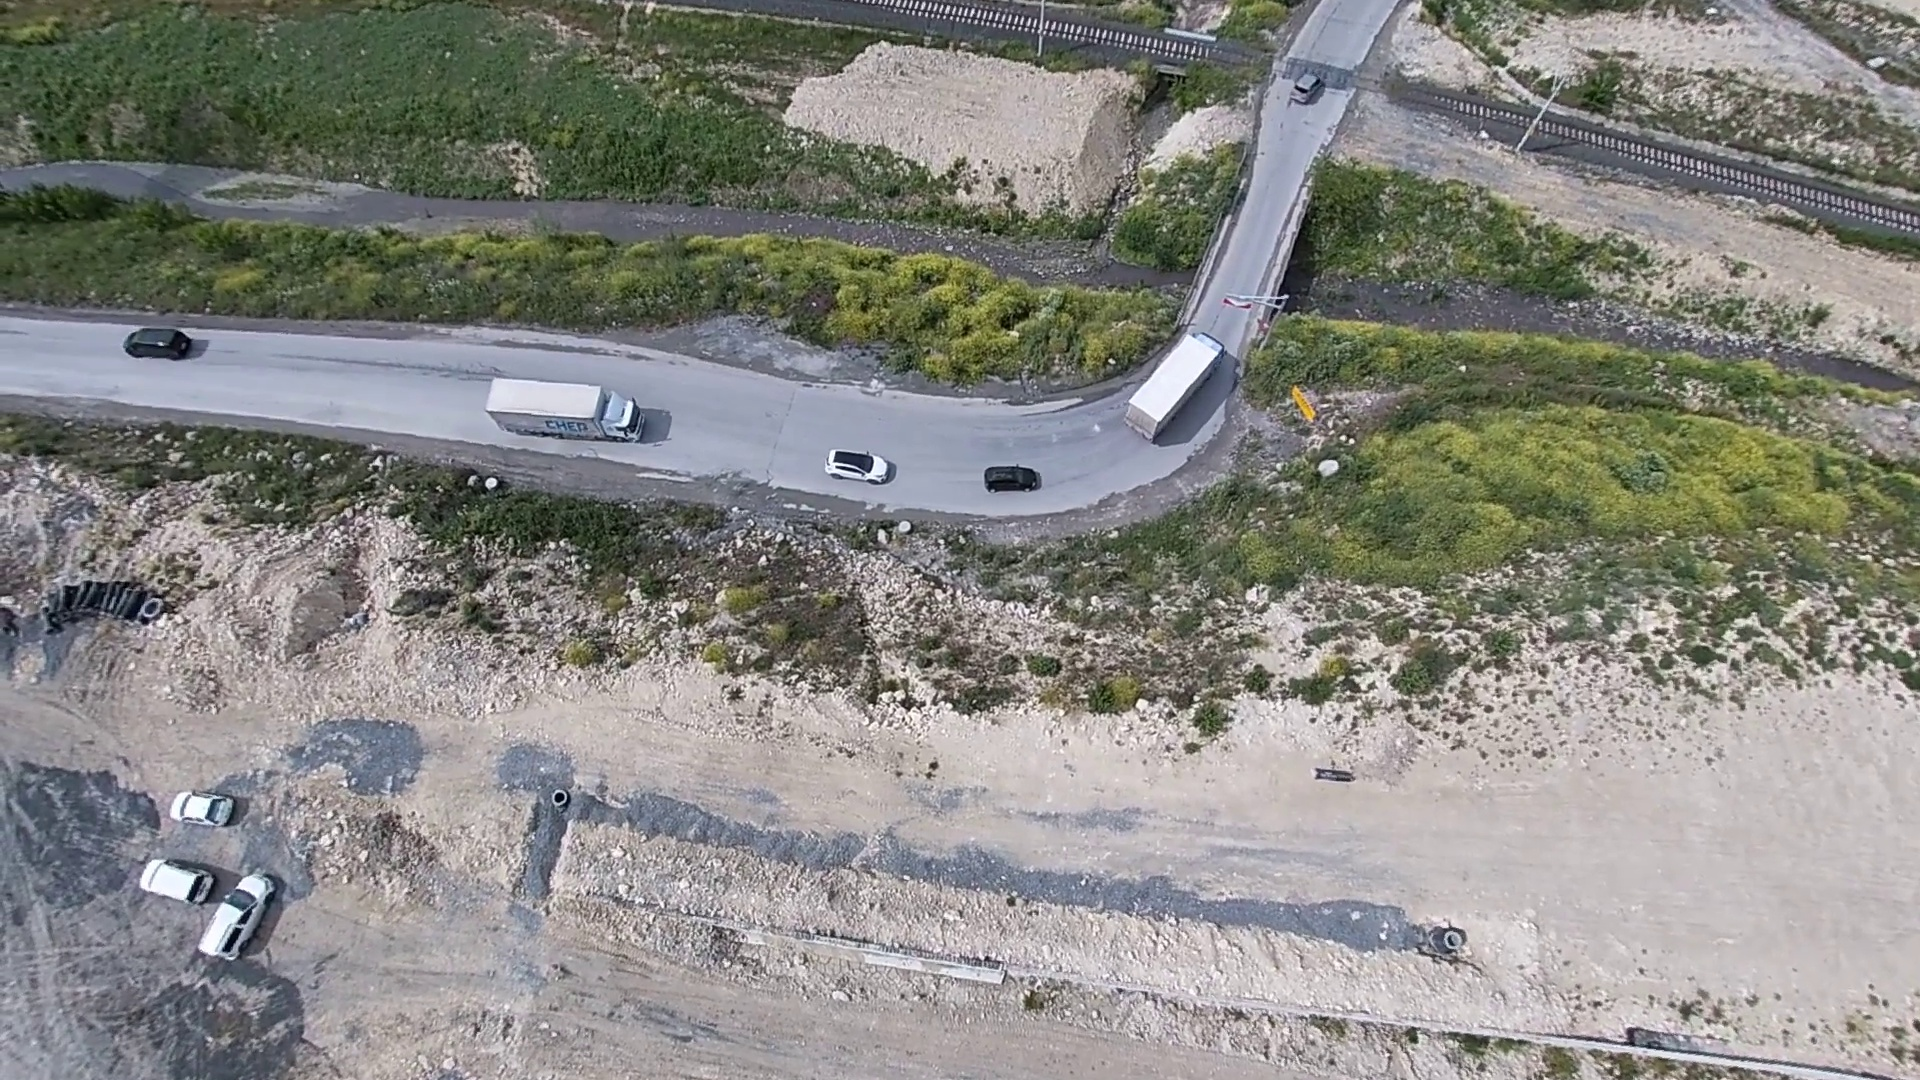araba: (196, 868, 284, 971), (818, 440, 907, 495), (123, 860, 222, 905), (171, 785, 251, 823), (116, 327, 194, 364), (985, 462, 1048, 495), (1291, 69, 1327, 116)
kamyon: (1117, 324, 1236, 450), (483, 373, 647, 440)
